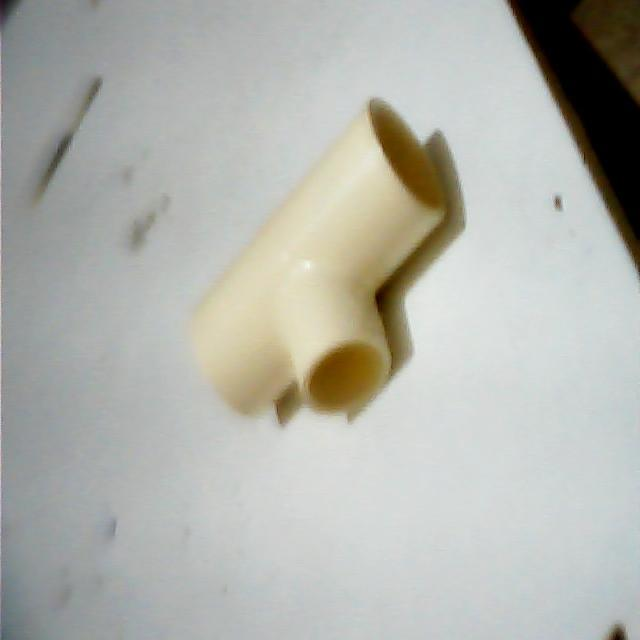T Joint: (189, 98, 448, 418)
